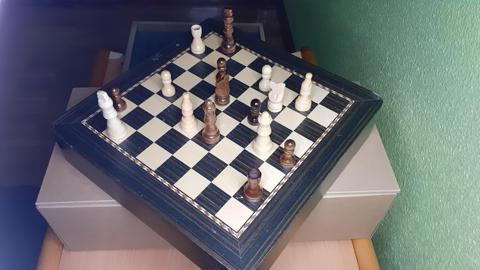xcorner: (237, 120, 244, 127), (211, 45, 217, 52), (197, 56, 204, 62), (183, 66, 189, 73), (151, 90, 158, 96), (134, 103, 141, 109), (116, 116, 122, 123), (213, 65, 220, 71), (168, 100, 174, 107), (185, 111, 191, 118), (168, 125, 174, 132), (150, 140, 156, 147), (248, 83, 254, 90), (168, 153, 174, 160), (279, 81, 285, 88), (205, 150, 211, 157), (187, 167, 194, 173), (298, 91, 304, 98), (271, 118, 278, 124), (246, 178, 253, 184), (168, 78, 174, 84), (227, 54, 233, 60), (199, 76, 205, 82), (184, 88, 190, 94), (151, 114, 157, 120), (133, 128, 139, 134), (244, 63, 250, 69), (230, 74, 236, 80), (216, 86, 222, 92), (201, 98, 207, 104), (261, 72, 267, 78), (234, 96, 240, 102), (219, 109, 225, 115), (203, 123, 209, 129), (186, 138, 192, 144), (266, 94, 272, 100), (252, 107, 258, 113), (222, 135, 228, 141), (285, 104, 291, 110), (257, 132, 263, 138), (242, 148, 248, 154), (225, 164, 231, 170), (208, 182, 214, 188), (318, 102, 324, 108), (305, 115, 311, 121), (292, 130, 298, 136), (278, 145, 284, 151), (263, 161, 269, 167), (229, 197, 235, 203)
